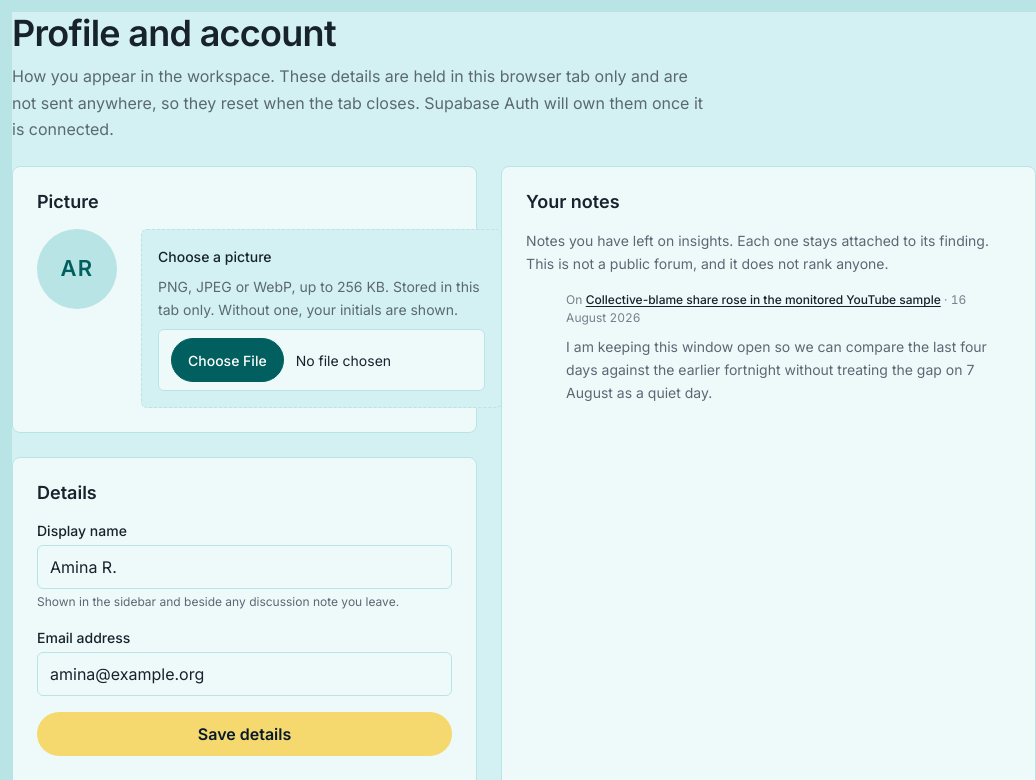
ProfilePage › refuses a malformed email
Replace the text in the field labelled "Email address" with "not-an-address" at (245, 674), box [37, 652, 452, 696]
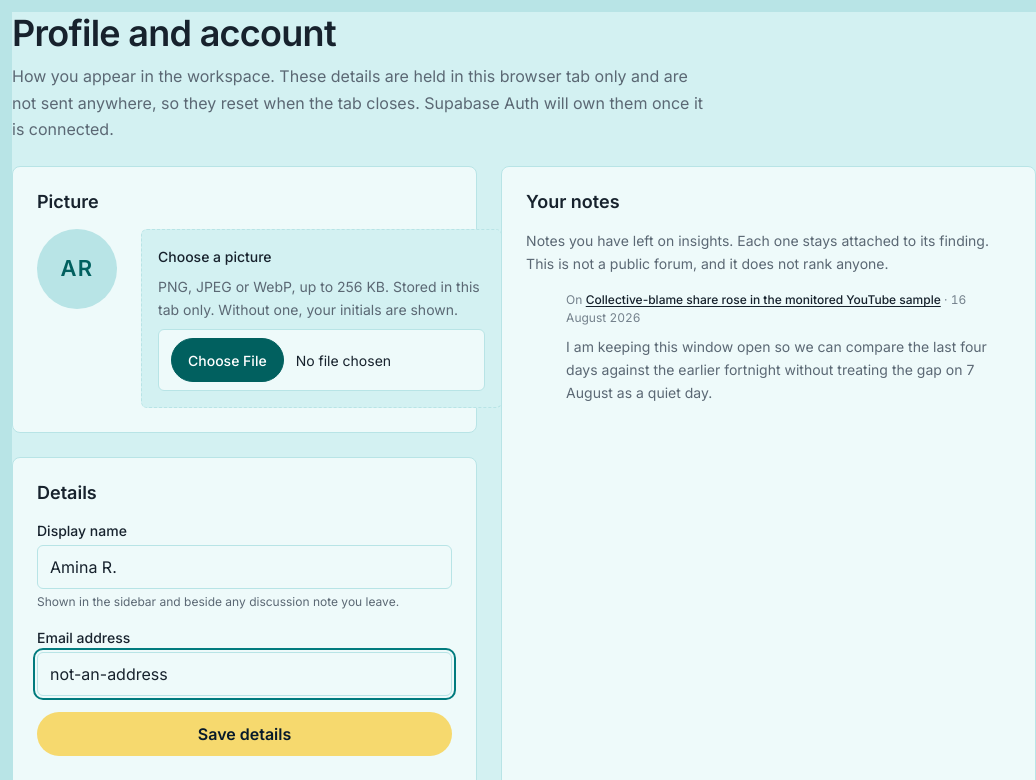
Click the button "Save details" at (245, 734), box [37, 712, 452, 756]
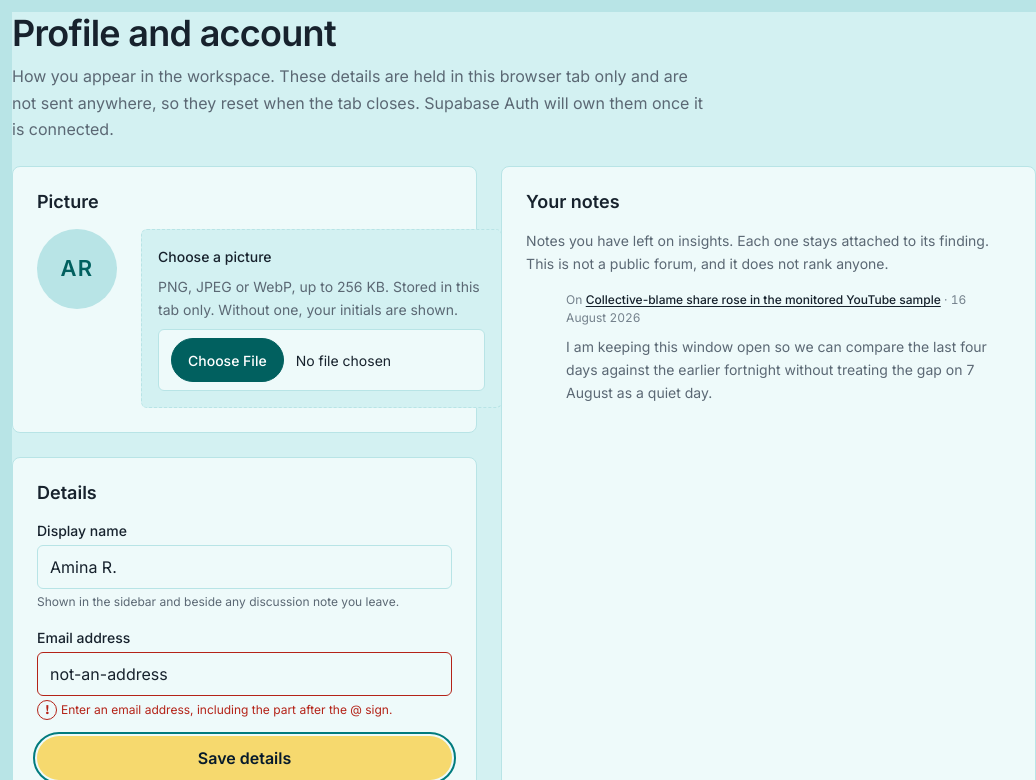
Now the text "Enter an email address, including the part after the @ sign." is shown, box [61, 702, 392, 717]
